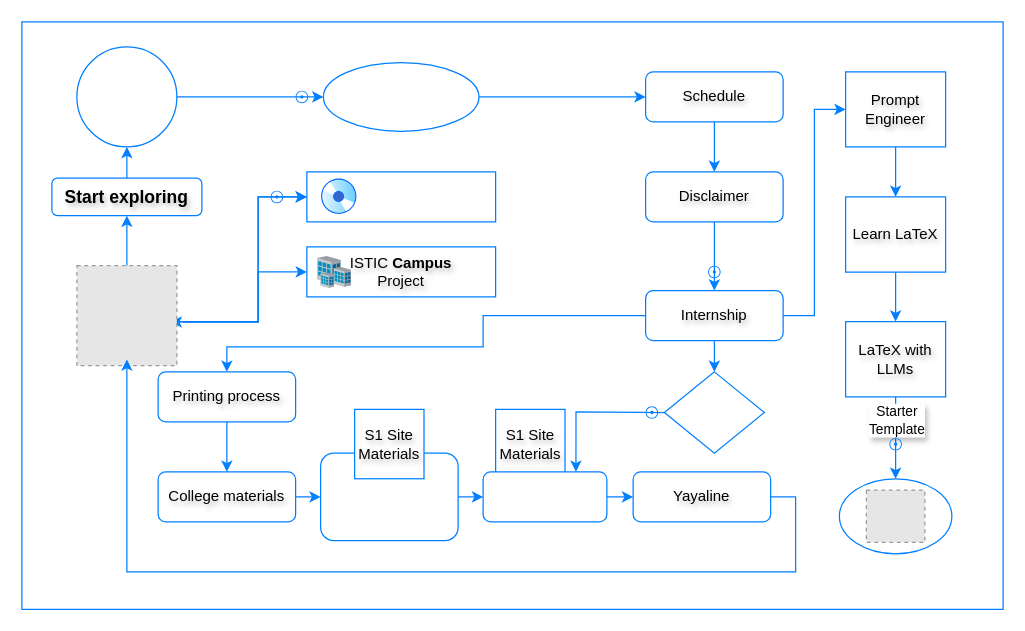
Some shapes in this 1025 by 631 pixel diagram are drawn without their labels. Grey dashed boxes stand in for pictures. Each missing label, with the box of its shape:
Ack Amal: (663, 371, 764, 453)
College overview: (322, 61, 479, 131)
Mission X (ISTICore): (306, 171, 496, 222)
Overall degree(s): (76, 46, 177, 147)
Real World (Exit): (482, 471, 607, 522)
Semester 1: (319, 452, 458, 541)
